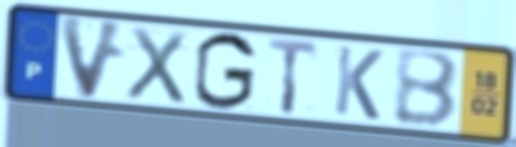B: (392, 48, 462, 131)
G: (192, 29, 259, 113)
K: (331, 42, 386, 123)
T: (266, 35, 321, 117)
V: (56, 12, 130, 103)
X: (122, 23, 189, 107)
